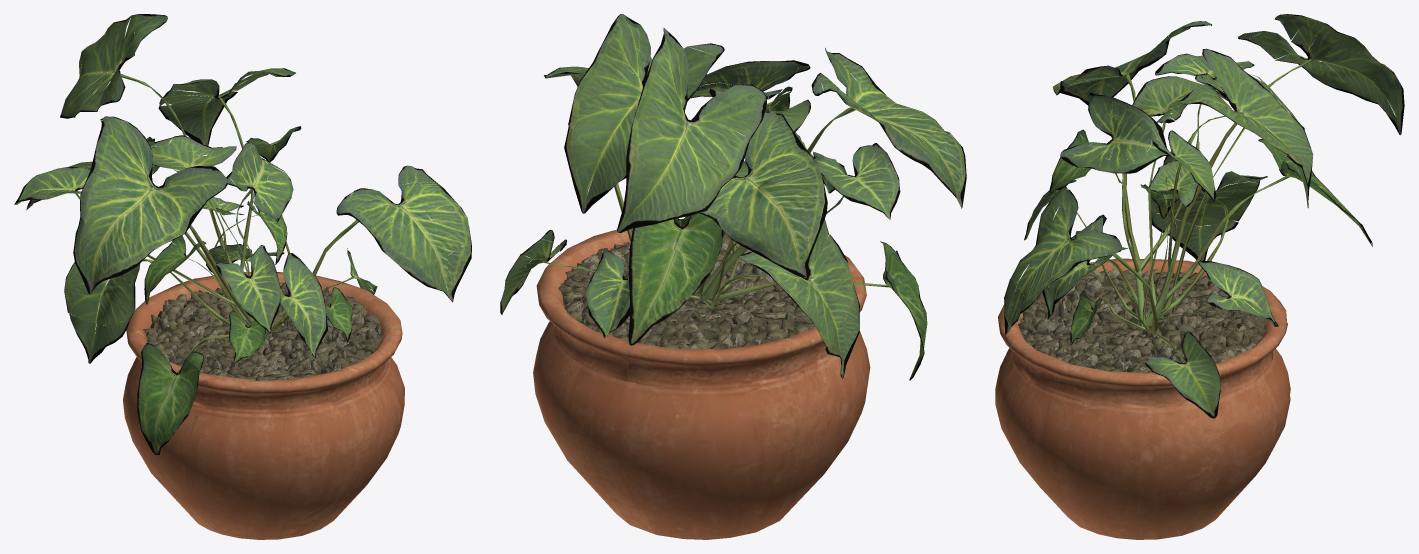
Rendered from desk-plant.glb.
3 views of the same model, side by side, from view 1: azimuth 30°, elevation 25°; view 2: azimuth 150°, elevation 25°; view 3: azimuth 270°, elevation 25° (orthographic). The views are drawn at different scales.
Parts seen in each view (by area): view 1: potted_plant_02_leaves, potted_plant_02_pot, potted_plant_02_dirt; view 2: potted_plant_02_leaves, potted_plant_02_pot, potted_plant_02_dirt; view 3: potted_plant_02_leaves, potted_plant_02_pot, potted_plant_02_dirt.
Part boxes in pixels (box(x1,y1,x2,y2)): potted_plant_02_leaves: box(14, 14, 471, 454); potted_plant_02_pot: box(123, 272, 404, 539); potted_plant_02_dirt: box(143, 282, 383, 380); potted_plant_02_leaves: box(500, 14, 966, 380); potted_plant_02_pot: box(533, 228, 870, 539); potted_plant_02_dirt: box(558, 233, 815, 349); potted_plant_02_leaves: box(1004, 14, 1404, 418); potted_plant_02_pot: box(995, 258, 1290, 539); potted_plant_02_dirt: box(1018, 268, 1268, 372).
Size of the model in its own units: 0.7008 by 0.8416 by 0.6564.
2 materials, 2 textured.
